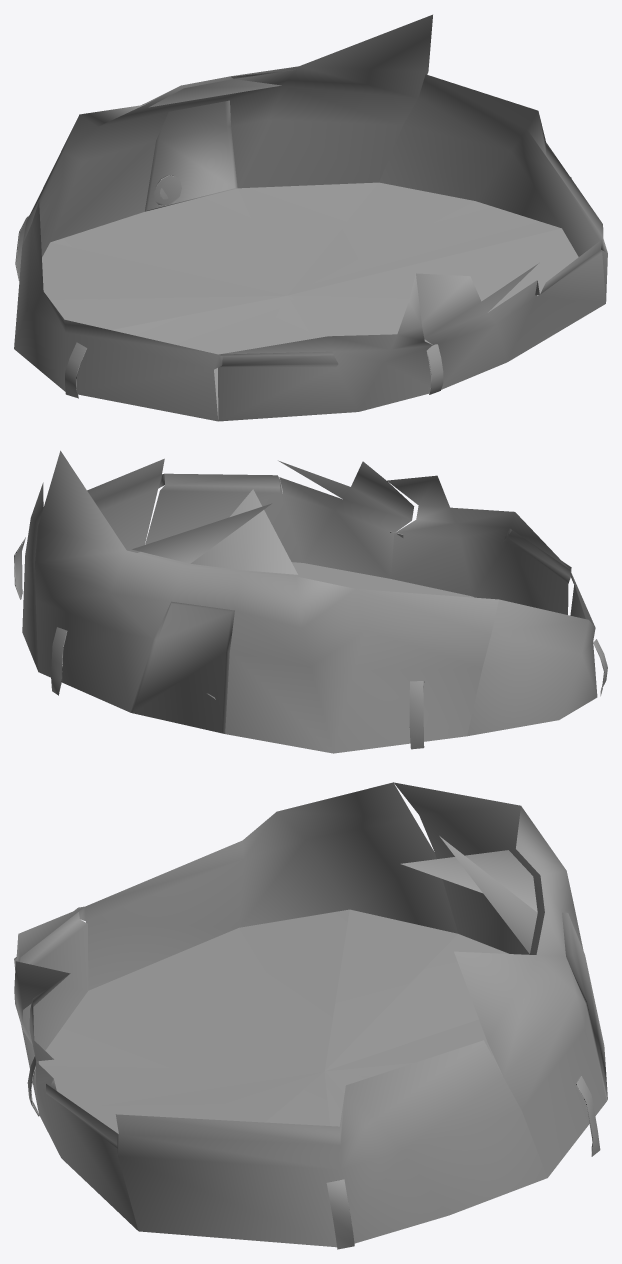
File: hip.glb
3 views of the same model, one above another, from view 1: azimuth 30°, elevation 25°; view 2: azimuth 150°, elevation 25°; view 3: azimuth 270°, elevation 25° (orthographic). The views are drawn at different scales.
Visible parts, largest first — view 1: trousers-grey_HIP; view 2: trousers-grey_HIP; view 3: trousers-grey_HIP.
Part boxes in pixels (left/top/right/bottom): trousers-grey_HIP: left=14, top=14, right=607, bottom=421; trousers-grey_HIP: left=14, top=450, right=607, bottom=753; trousers-grey_HIP: left=14, top=782, right=607, bottom=1249.
Size of the model in its own units: 0.4339 by 0.1591 by 0.3264.
Materials: 1 (1 with a texture image).
